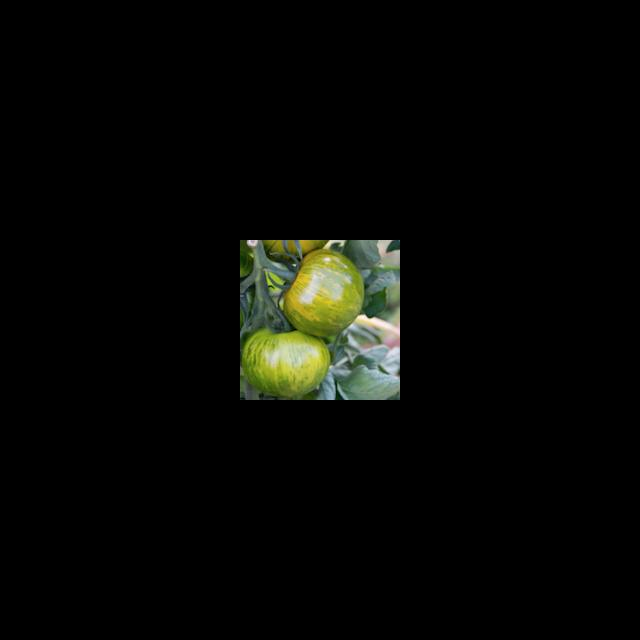tomato: (242, 245, 376, 395)
